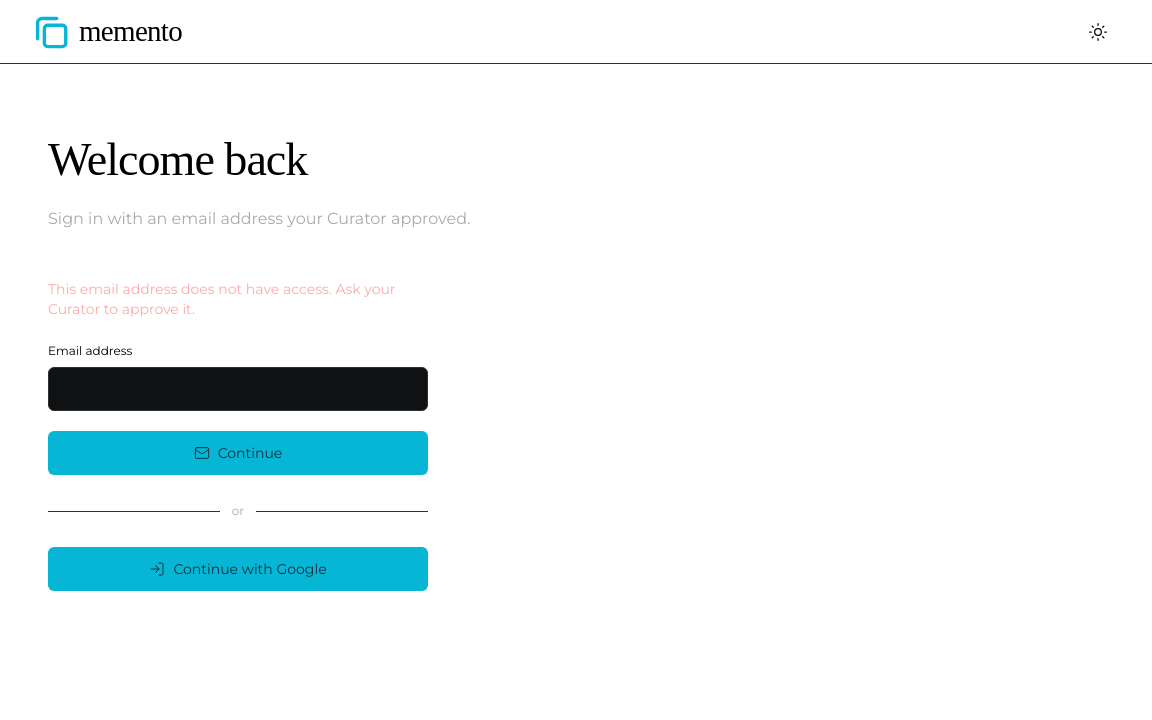
Test: keeps an earlier sign-in failure with the first step only
Expected: the message shows "This email address does not have access", [48,280,396,318]
Type "alex@example.test" into the field labelled "Email address".
click(238, 389); type("alex@example.test")  # box [48,367,428,411]
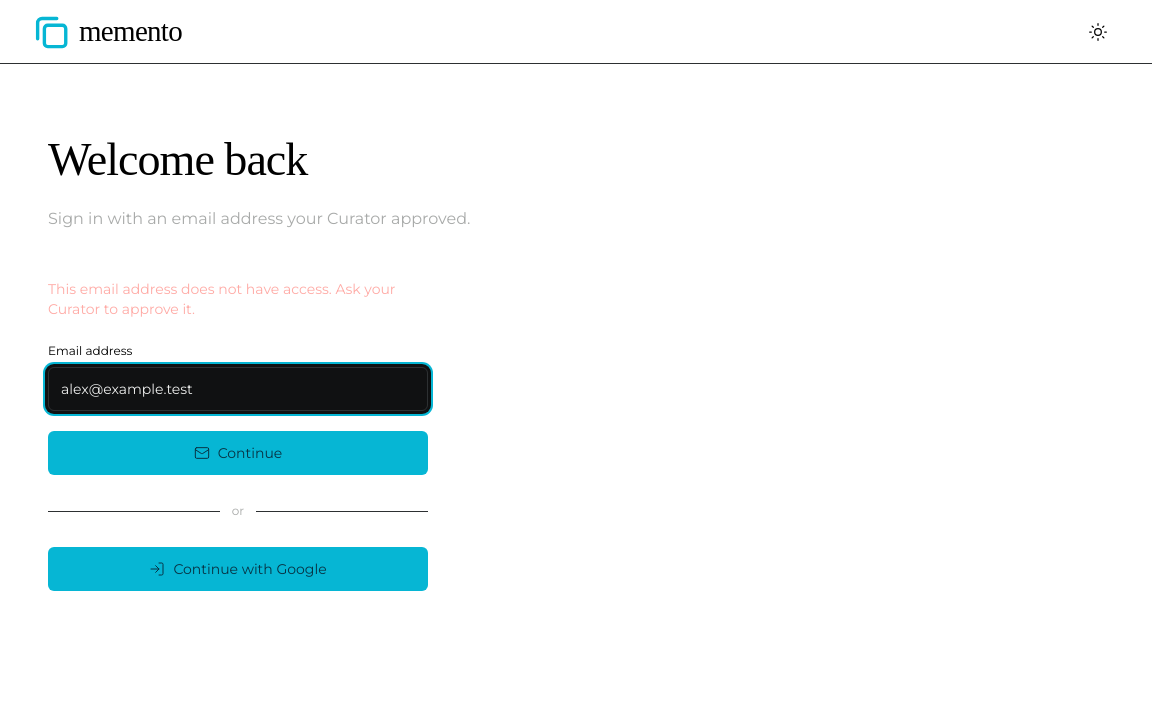
Click the button "Continue".
click(238, 453)  # box [48,431,428,475]
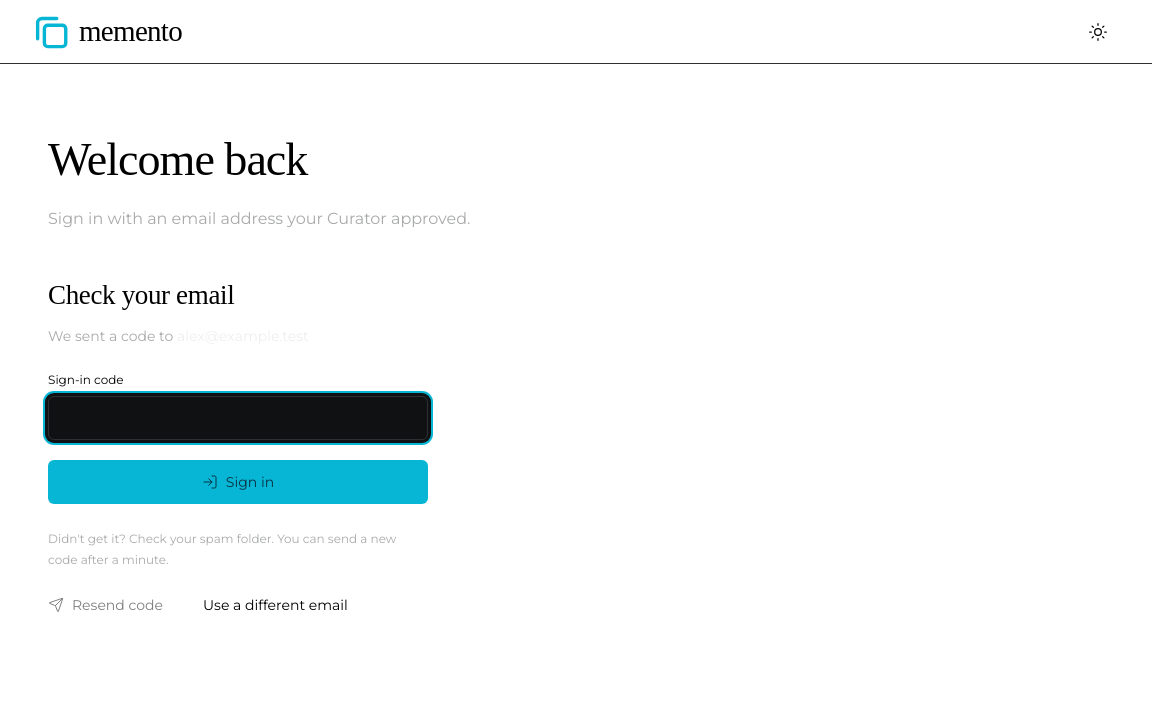
Expected: the field labelled "Sign-in code" is shown, [48,396,428,440]
Expected: the message "This email address does not have access. Ask your Curator to approve it." is gone
# Starting over does not bring the old failure back.
Click the button "Use a different email".
click(275, 605)  # box [187,583,364,627]
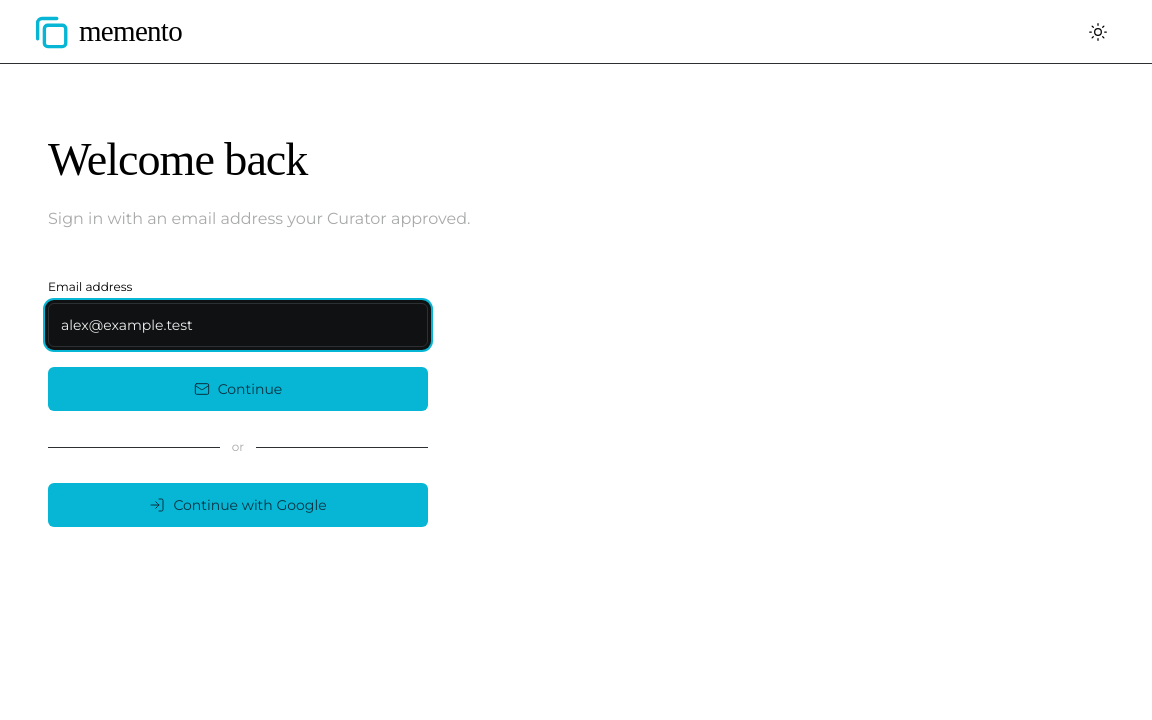
Expected: the message "This email address does not have access. Ask your Curator to approve it." is not shown
Expected: the field labelled "Email address" is shown, [48,303,428,347]
